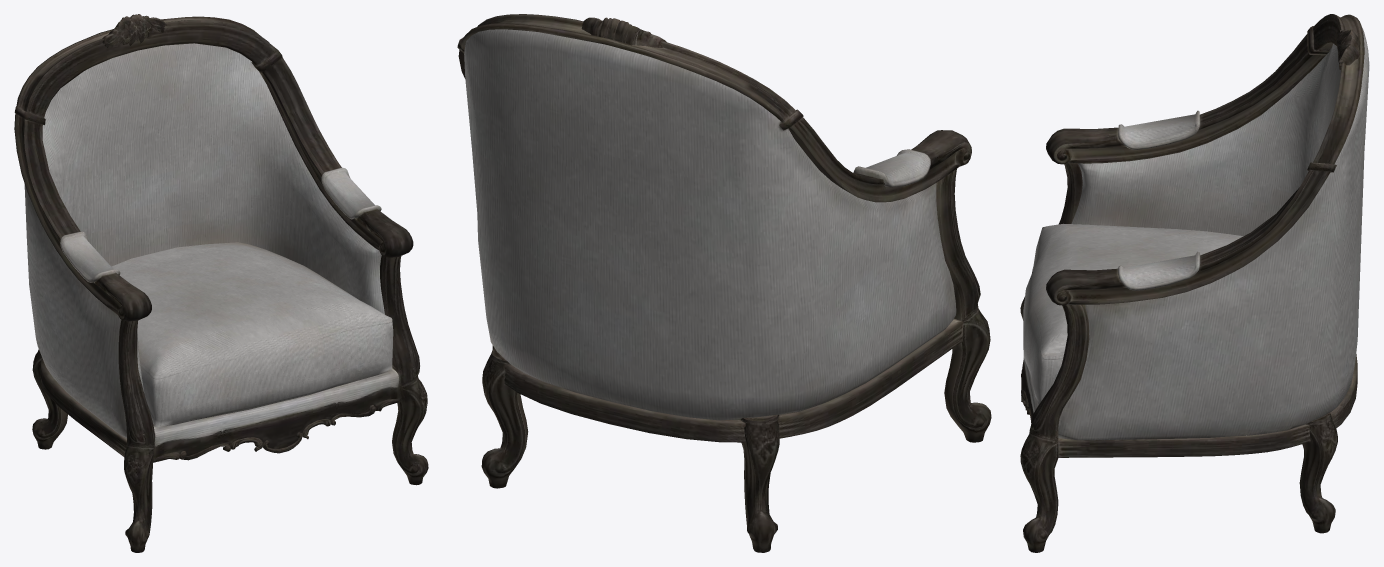
The model's file is ArmChair_01.glb.
3 renders of one model, left to right at view 1: azimuth 30°, elevation 25°; view 2: azimuth 150°, elevation 25°; view 3: azimuth 270°, elevation 25°, orthographic. The views are drawn at different scales.
Visible parts, largest first — view 1: ArmChair_01; view 2: ArmChair_01; view 3: ArmChair_01.
Part boxes in pixels (bbox=[...]): ArmChair_01: bbox=[14, 14, 428, 552]; ArmChair_01: bbox=[457, 14, 991, 552]; ArmChair_01: bbox=[1020, 14, 1369, 552].
Size of the model in its own units: 0.8484 by 1.07 by 0.7658.
Materials: 1 (1 with a texture image).
